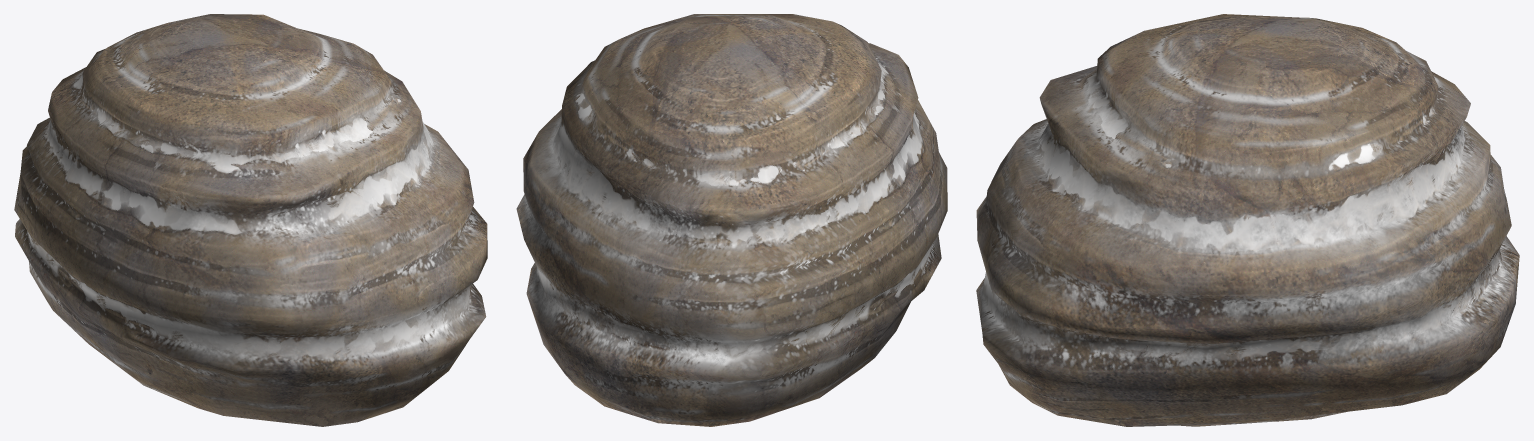
File: SM_MetalNode_5.fbx
3 views of the same model, side by side, from view 1: azimuth 30°, elevation 25°; view 2: azimuth 150°, elevation 25°; view 3: azimuth 270°, elevation 25° (orthographic). The views are drawn at different scales.
Parts seen in each view (by area): view 1: MetalNode_5; view 2: MetalNode_5; view 3: MetalNode_5.
Part boxes in pixels (bbox=[...]): MetalNode_5: bbox=[14, 14, 487, 426]; MetalNode_5: bbox=[516, 14, 947, 426]; MetalNode_5: bbox=[976, 14, 1519, 426].
Size of the model in its own units: 0.7935 by 0.7208 by 0.9573.
